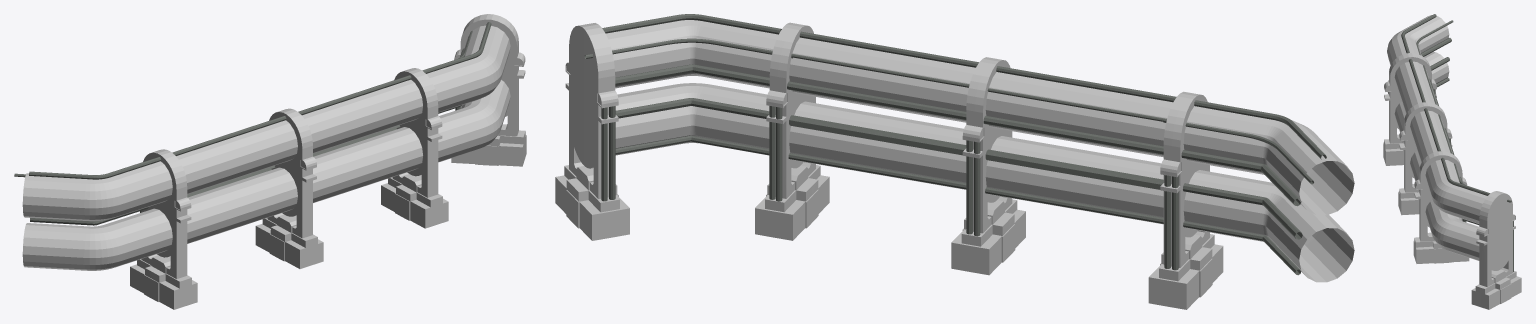
File: PipeWall_B_Distant.fbx
3 views of the same model, side by side, from view 1: azimuth 30°, elevation 25°; view 2: azimuth 150°, elevation 25°; view 3: azimuth 270°, elevation 25° (orthographic). The views are drawn at different scales.
Visible parts, largest first — view 1: SM_ENV_AMVLLG02_PipeWall_B_Distant.mo; view 2: SM_ENV_AMVLLG02_PipeWall_B_Distant.mo; view 3: SM_ENV_AMVLLG02_PipeWall_B_Distant.mo.
Boxes of the visible parts, bbox=[...] form: SM_ENV_AMVLLG02_PipeWall_B_Distant.mo: bbox=[14, 14, 526, 309]; SM_ENV_AMVLLG02_PipeWall_B_Distant.mo: bbox=[555, 14, 1354, 309]; SM_ENV_AMVLLG02_PipeWall_B_Distant.mo: bbox=[1383, 14, 1521, 309].
Size of the model in its own units: 19925 by 4923 by 5891.
